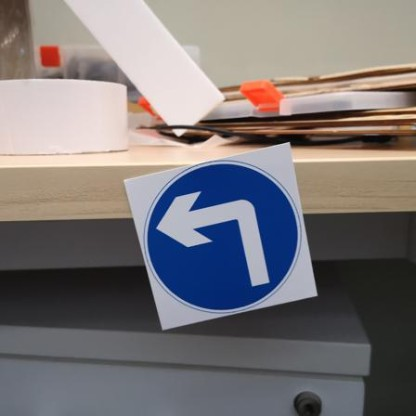left: (126, 164, 323, 320)
